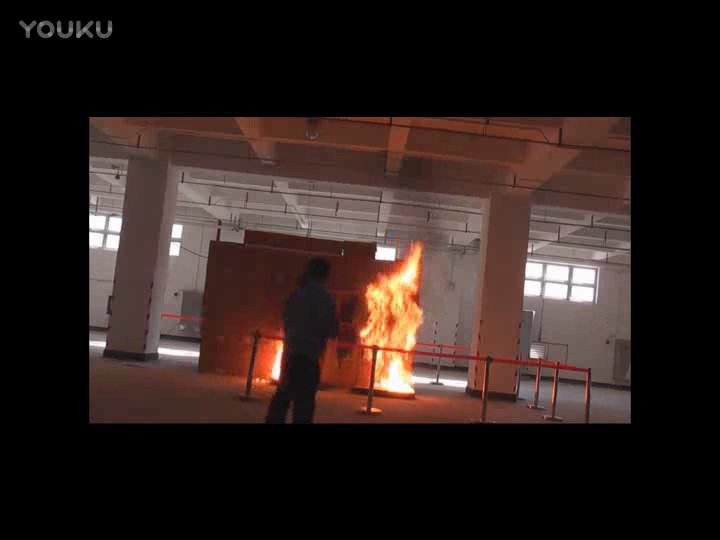fire: (365, 237, 423, 395)
